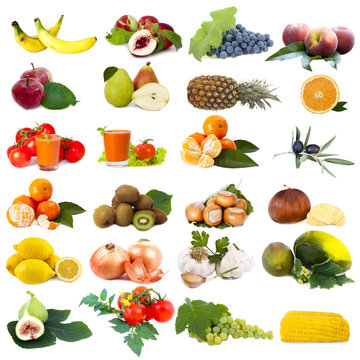Pineapple: (187, 74, 281, 112)
